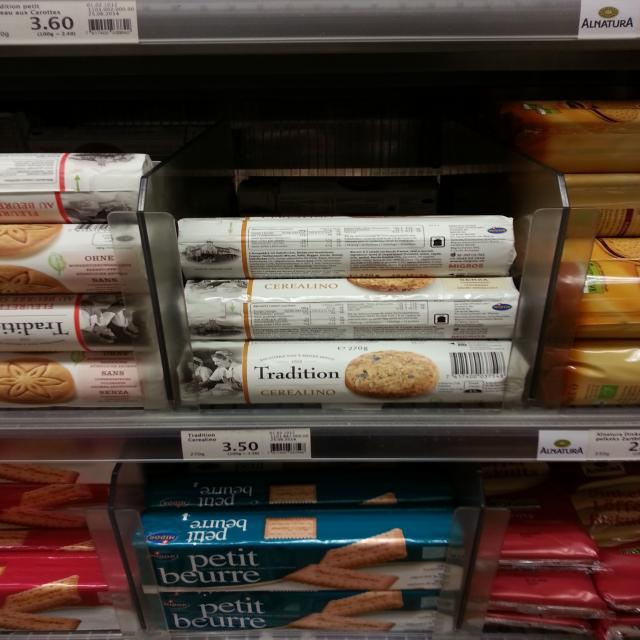Biscuits: (120, 509, 468, 589), (175, 277, 522, 341), (173, 344, 530, 404), (172, 218, 514, 278), (138, 586, 471, 640), (0, 550, 139, 632), (0, 224, 163, 292), (0, 152, 151, 223), (0, 348, 164, 408), (0, 295, 164, 353), (0, 458, 110, 526)
